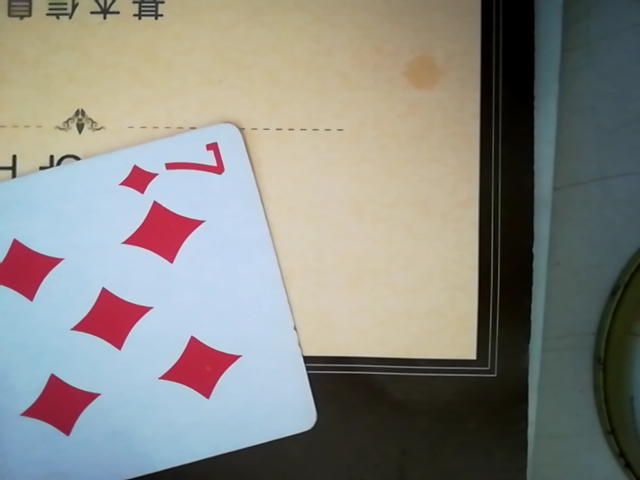fk 7: (0, 119, 318, 476)
